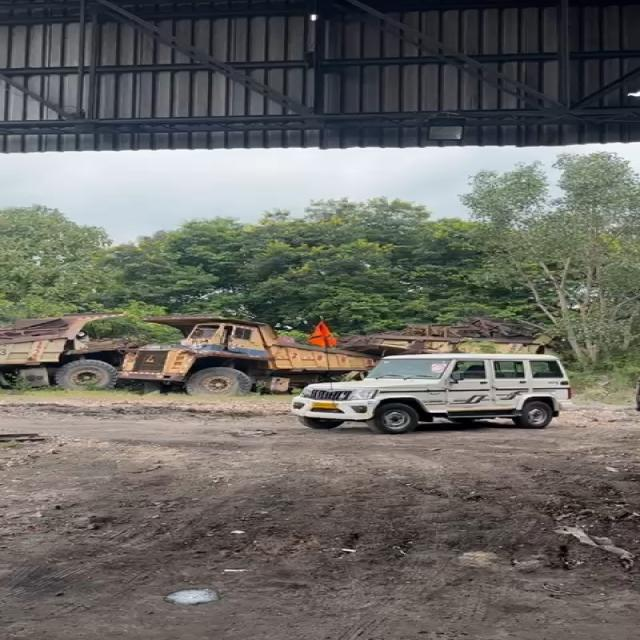dump_truck: (140, 312, 291, 396), (6, 314, 125, 389)
light_vehicle: (306, 353, 576, 435)
